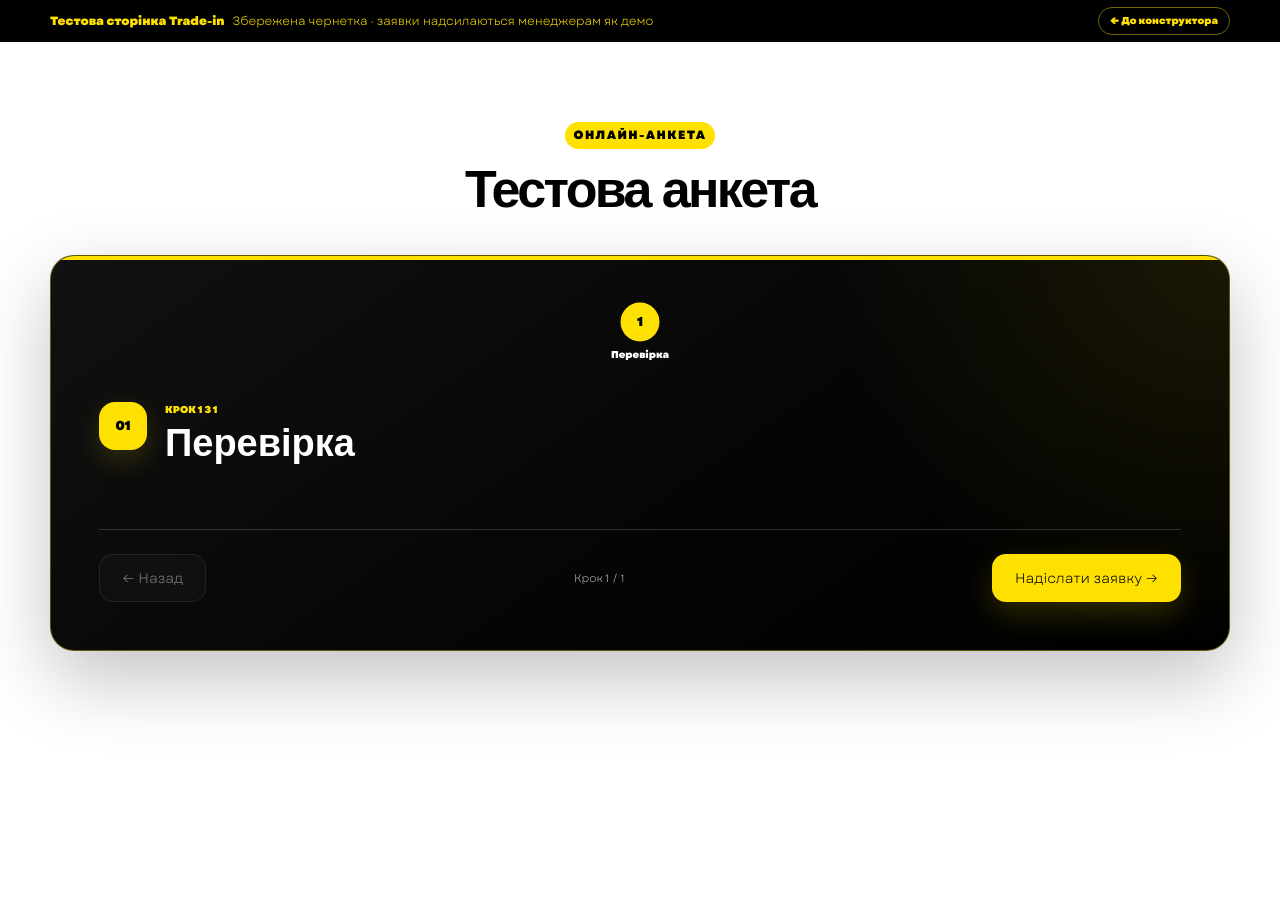
Test: TradeInPublicPage preview › clearly marks the page as a draft and submits a demo application
Expected: the text "Тестова сторінка Trade-in" is shown, [50,12,225,30]
Expected: the text "заявки надсилаються менеджерам як демо" is shown, [233,12,654,30]
Click the button "Надіслати заявку →".
click(1086, 578)  # box [992,554,1181,602]
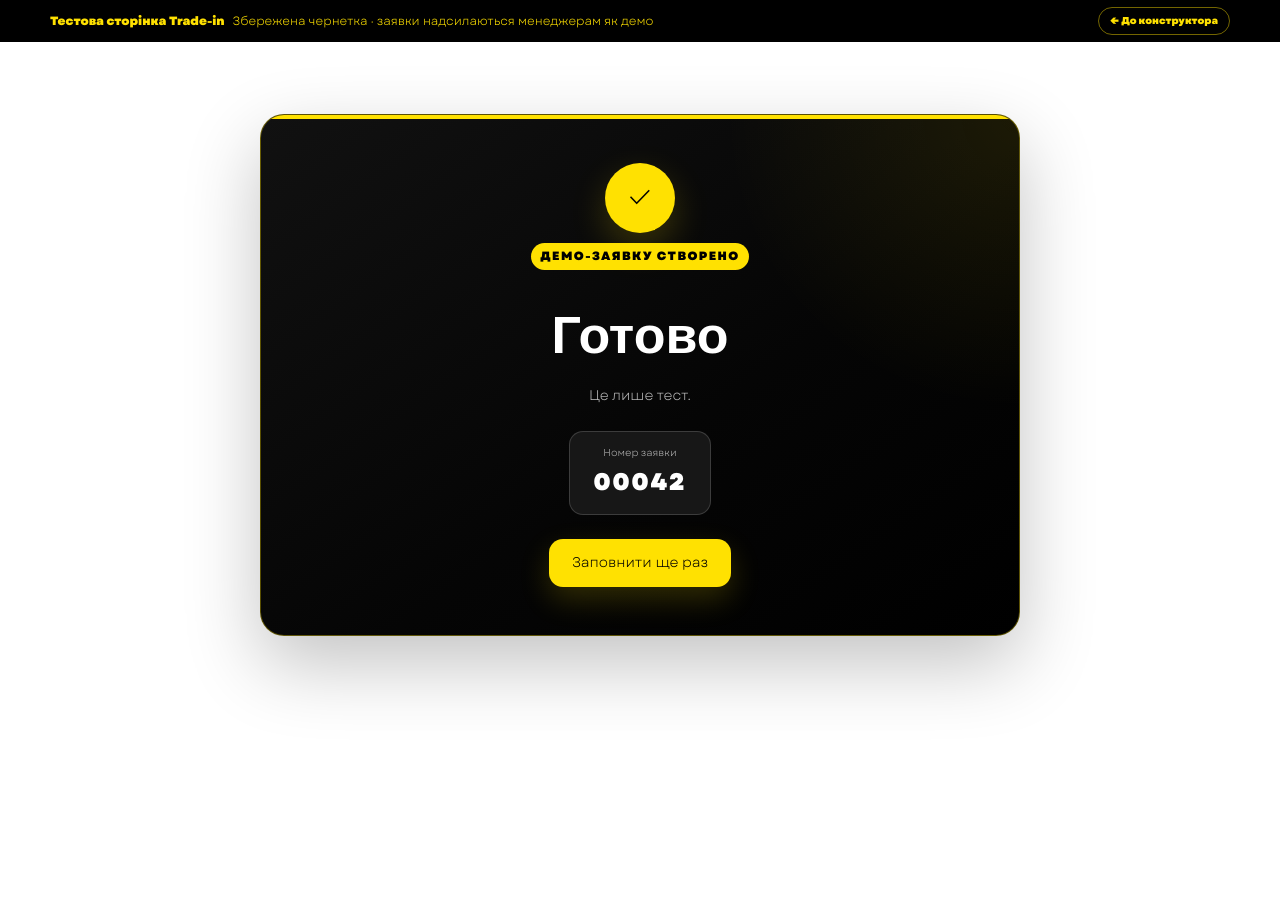
Expected: the text "Демо-заявку створено" is shown, [531,243,749,270]
Expected: the text "00042" is shown, [594,463,686,501]
